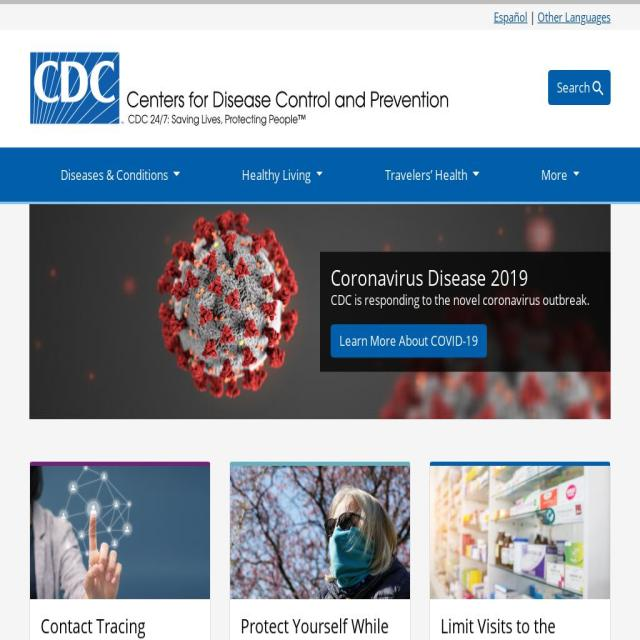button: (228, 461, 410, 640), (428, 461, 610, 640), (29, 461, 210, 640), (29, 51, 460, 126), (29, 300, 610, 320), (30, 146, 212, 202), (354, 146, 511, 202), (210, 146, 354, 202), (510, 146, 611, 202), (548, 70, 610, 105)
image: (29, 203, 610, 420), (29, 51, 448, 126), (229, 466, 410, 600), (429, 466, 610, 600), (30, 466, 210, 600)
link: (331, 265, 600, 289), (331, 288, 600, 310), (538, 8, 610, 26), (493, 8, 528, 26), (40, 638, 200, 640)
text: (331, 323, 487, 358), (240, 613, 399, 640), (440, 613, 599, 640), (40, 613, 200, 639), (556, 76, 590, 97), (528, 8, 538, 26)
